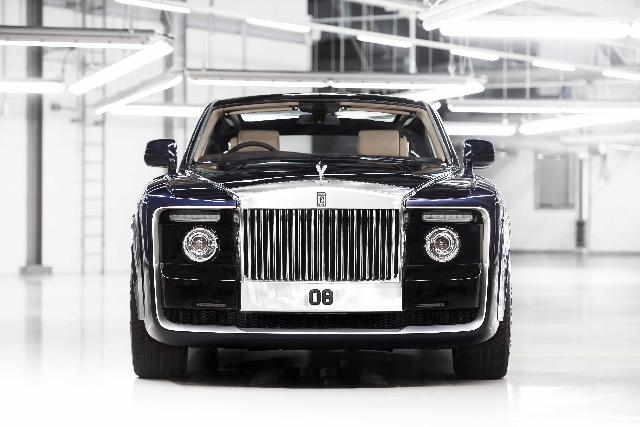rolls-royce: (130, 94, 512, 380)
